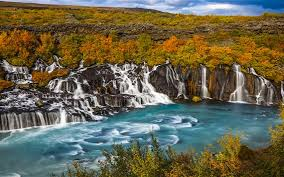mountain: (5, 4, 266, 109)
sea: (7, 104, 284, 162)
waterfall: (65, 62, 284, 110)
